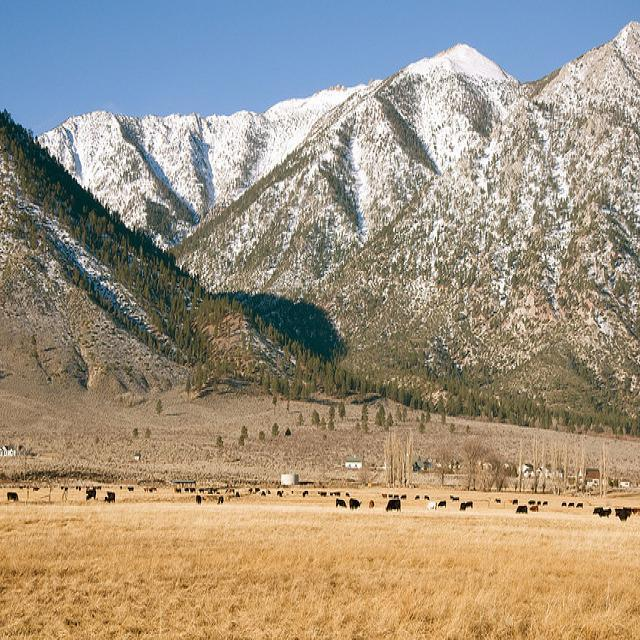cow: (5, 474, 638, 521), (384, 497, 400, 510), (613, 506, 627, 520), (425, 498, 437, 509), (334, 495, 345, 506), (598, 506, 610, 516), (105, 488, 114, 501), (514, 503, 526, 512), (216, 492, 223, 503), (437, 498, 445, 506), (367, 499, 373, 508), (575, 500, 582, 506), (541, 499, 546, 505), (451, 496, 457, 499)
